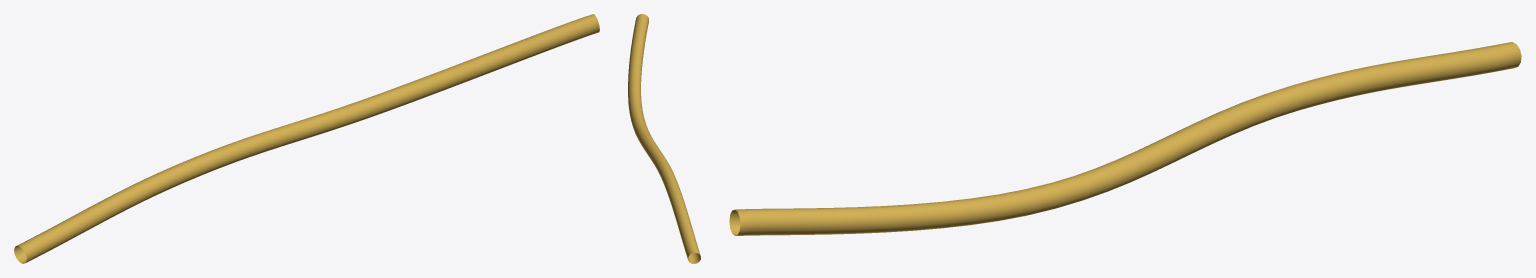
3 views of the same model, side by side, from view 1: azimuth 90°, elevation 25°; view 2: azimuth 150°, elevation 25°; view 3: azimuth 270°, elevation 25° (orthographic). The views are drawn at different scales.
Visible parts, largest first — view 1: 右侧腓深神经肌支; view 2: 右侧腓深神经肌支; view 3: 右侧腓深神经肌支.
Boxes of the visible parts, x1=… form: 右侧腓深神经肌支: x1=14, y1=14, x2=599, y2=263; 右侧腓深神经肌支: x1=628, y1=14, x2=700, y2=263; 右侧腓深神经肌支: x1=729, y1=42, x2=1521, y2=235.
Size of the model in its own units: 0.0325 by 0.00583 by 0.0436.
